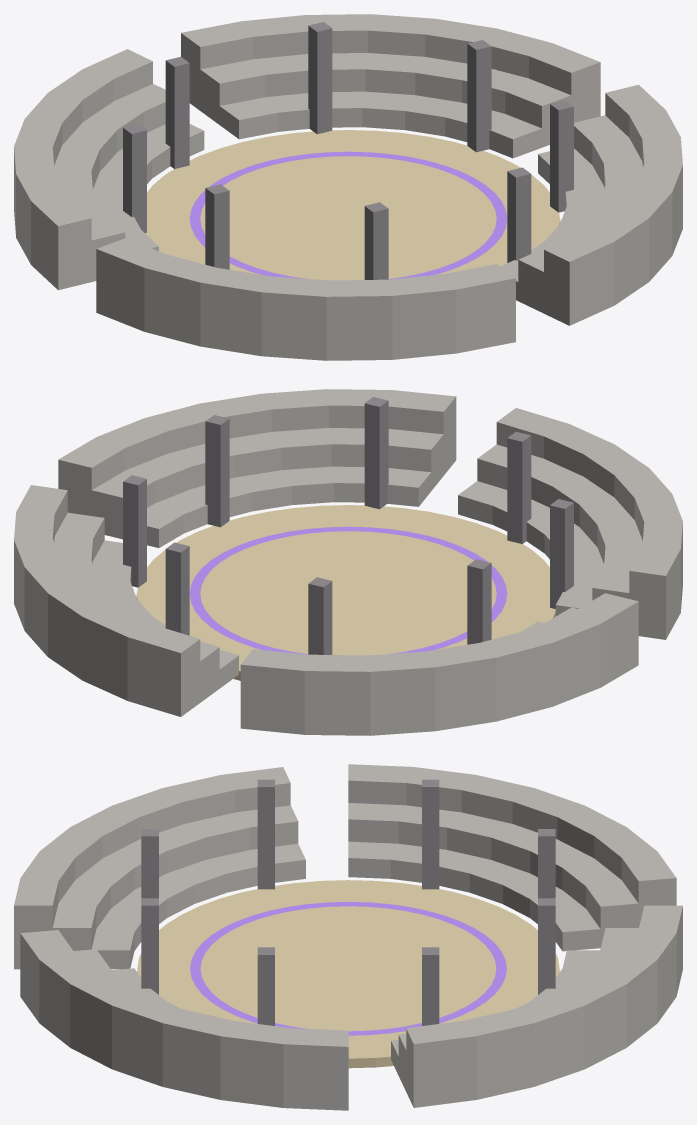
Rendered from Arena.fbx.
The picture shows the model from 3 angles, top to bottom: view 1: azimuth 30°, elevation 25°; view 2: azimuth 150°, elevation 25°; view 3: azimuth 270°, elevation 25°; orthographic projection.
Parts seen in each view (by area): view 1: Arena_Seating, Arena_Floor, Arena_Pillars, Arena_RuneRing; view 2: Arena_Seating, Arena_Floor, Arena_Pillars, Arena_RuneRing; view 3: Arena_Seating, Arena_Floor, Arena_Pillars, Arena_RuneRing.
Part boxes in pixels (bbox=[...]): Arena_Seating: bbox=[14, 14, 682, 360]; Arena_Floor: bbox=[145, 130, 560, 280]; Arena_Pillars: bbox=[123, 22, 573, 279]; Arena_RuneRing: bbox=[189, 151, 507, 279]; Arena_Seating: bbox=[14, 389, 682, 735]; Arena_Floor: bbox=[136, 505, 555, 680]; Arena_Pillars: bbox=[123, 397, 573, 654]; Arena_RuneRing: bbox=[189, 526, 507, 654]; Arena_Seating: bbox=[14, 764, 682, 1110]; Arena_Floor: bbox=[137, 880, 559, 1068]; Arena_Pillars: bbox=[141, 779, 555, 1025]; Arena_RuneRing: bbox=[190, 901, 506, 1035].
Bounding box in the file's own units: 1900 × 350 × 1900.
